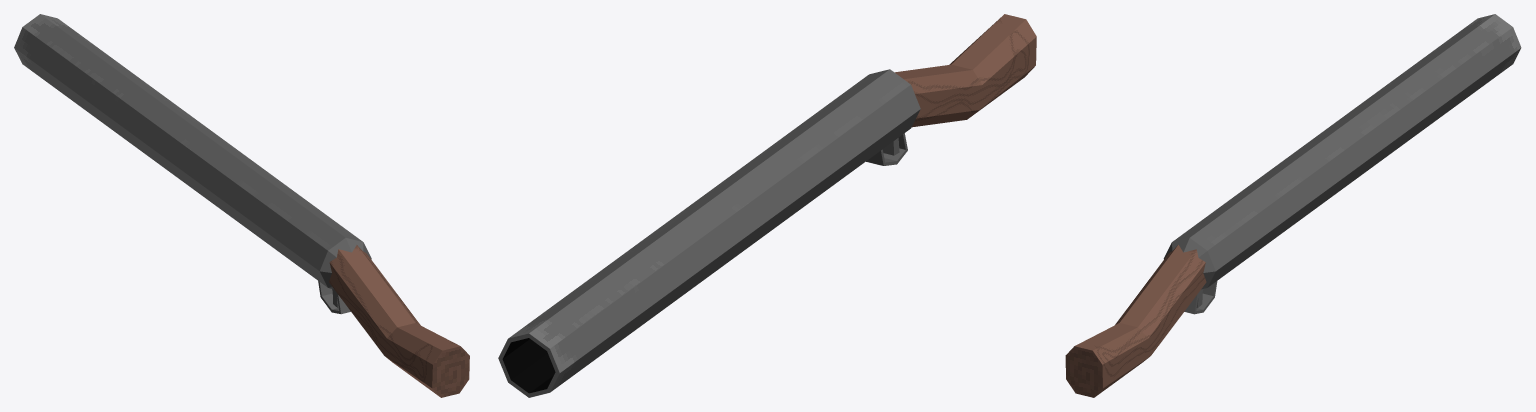
File: ShotgunV3.glb
3 views of the same model, side by side, from view 1: azimuth 30°, elevation 25°; view 2: azimuth 150°, elevation 25°; view 3: azimuth 330°, elevation 25° (orthographic). The views are drawn at different scales.
Visible parts, largest first — view 1: Barrel, Handle, Trigger; view 2: Barrel, Handle, Trigger; view 3: Barrel, Handle, Trigger.
Boxes of the visible parts, x1,y1,x2,y2 form: Barrel: [14, 14, 371, 289]; Handle: [329, 245, 469, 397]; Trigger: [318, 281, 350, 314]; Barrel: [498, 69, 920, 397]; Handle: [895, 14, 1036, 127]; Trigger: [866, 133, 907, 165]; Barrel: [1163, 14, 1521, 289]; Handle: [1065, 245, 1206, 397]; Trigger: [1184, 281, 1217, 314].
Size of the model in its own units: 1.54 by 2.31 by 21.09.
2 materials, 2 textured.
